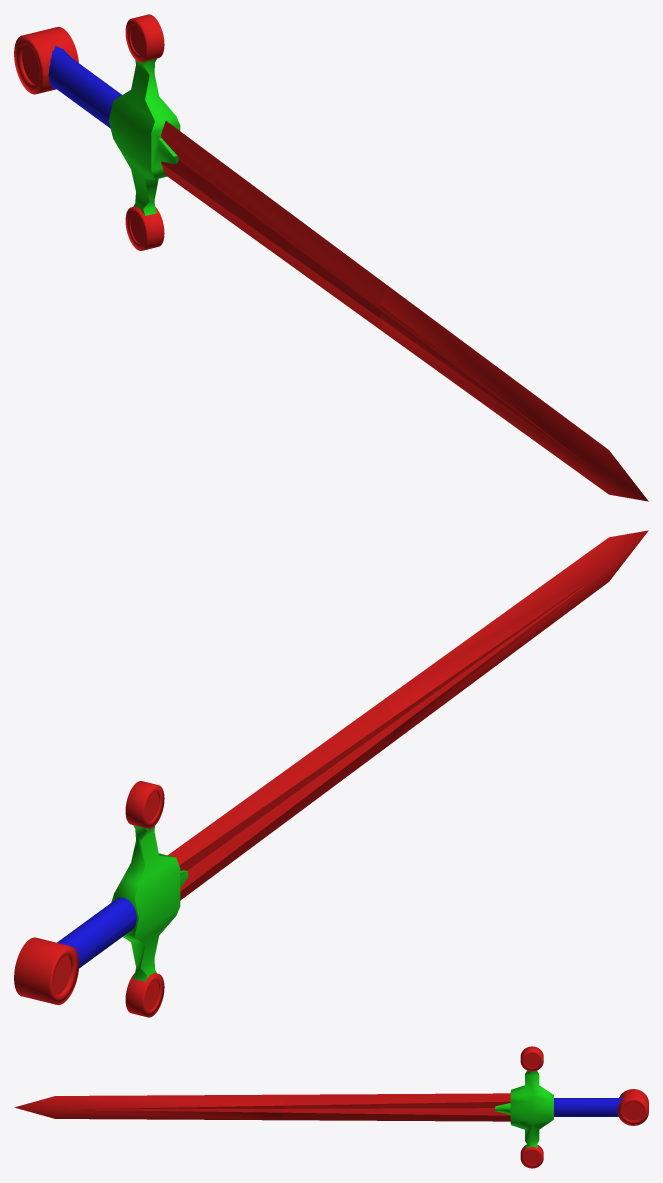
File: Sword1.fbx
The picture shows the model from 3 angles, top to bottom: view 1: azimuth 30°, elevation 25°; view 2: azimuth 150°, elevation 25°; view 3: azimuth 270°, elevation 25°; orthographic projection. The views are drawn at different scales.
Parts seen in each view (by area): view 1: Sword1; view 2: Sword1; view 3: Sword1.
Boxes of the visible parts, left/top/right/bottom form: Sword1: left=14, top=14, right=648, bottom=501; Sword1: left=14, top=530, right=648, bottom=1017; Sword1: left=14, top=1046, right=648, bottom=1168.
Bounding box in the file's own units: 1.07 × 6.72 × 32.76.
